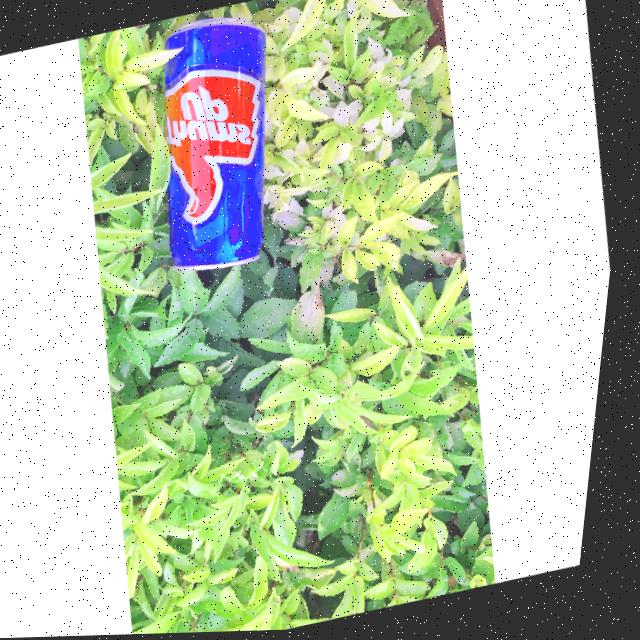Thums Up: (120, 5, 314, 286)
